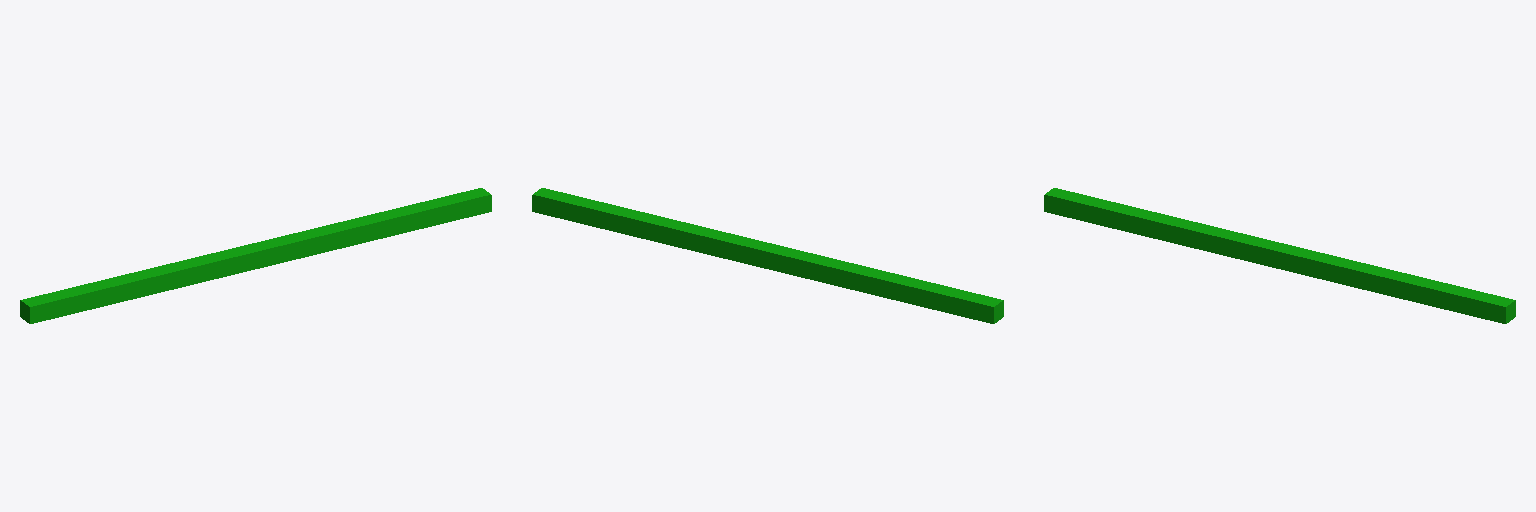
URDF robot description (block_2):
<?xml version="1.0"?>
<robot name="block_2">
  <link name="block_2_base_link">
    <contact>
      <lateral_friction value="1.0" />
      <spinning_friction value=".001" />
    </contact>
    <inertial>
      <origin rpy="0 0 0" xyz="0 0 0" />
      <mass value="0.02" />
      <inertia ixx="1" ixy="0" ixz="0" iyy="1" iyz="0" izz="1" />
    </inertial>
    <visual>
      <origin rpy="0 0 0" xyz="0.0 0.0 0.0" />
      <geometry>
        <box size="0.50 0.018 0.018" />
      </geometry>
      <material name="blockmat">
        <color rgba="0.1 0.7 0.1 1" />
      </material>
    </visual>
    <collision>
      <origin rpy="0 0 0" xyz="0.0 0.0 0.0" />
      <geometry>
        <box size="0.50 0.018 0.018" />
      </geometry>
    </collision>
  </link>
</robot>

--- What the picture shows (computed from the rendered views, not written in the file) ---
The picture shows the robot from 3 angles, left to right: view 1: azimuth 30°, elevation 25°; view 2: azimuth 150°, elevation 25°; view 3: azimuth 330°, elevation 25°; orthographic projection.
Model block_2 with 1 links and 0 joints (none), rooted at block_2_base_link, posed every joint at zero.
Links seen in each view (by area): view 1: block_2_base_link; view 2: block_2_base_link; view 3: block_2_base_link.
Link boxes in pixels (left/top/right/bottom): block_2_base_link: left=20, top=188, right=491, bottom=323; block_2_base_link: left=532, top=188, right=1003, bottom=323; block_2_base_link: left=1044, top=188, right=1515, bottom=323.
Bounding box of the posed robot: 0.5 × 0.018 × 0.018 m (x, y, z).
Geometry: primitives only (box / cylinder / sphere), no mesh files.
